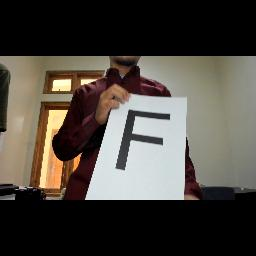f: (112, 104, 182, 176)
